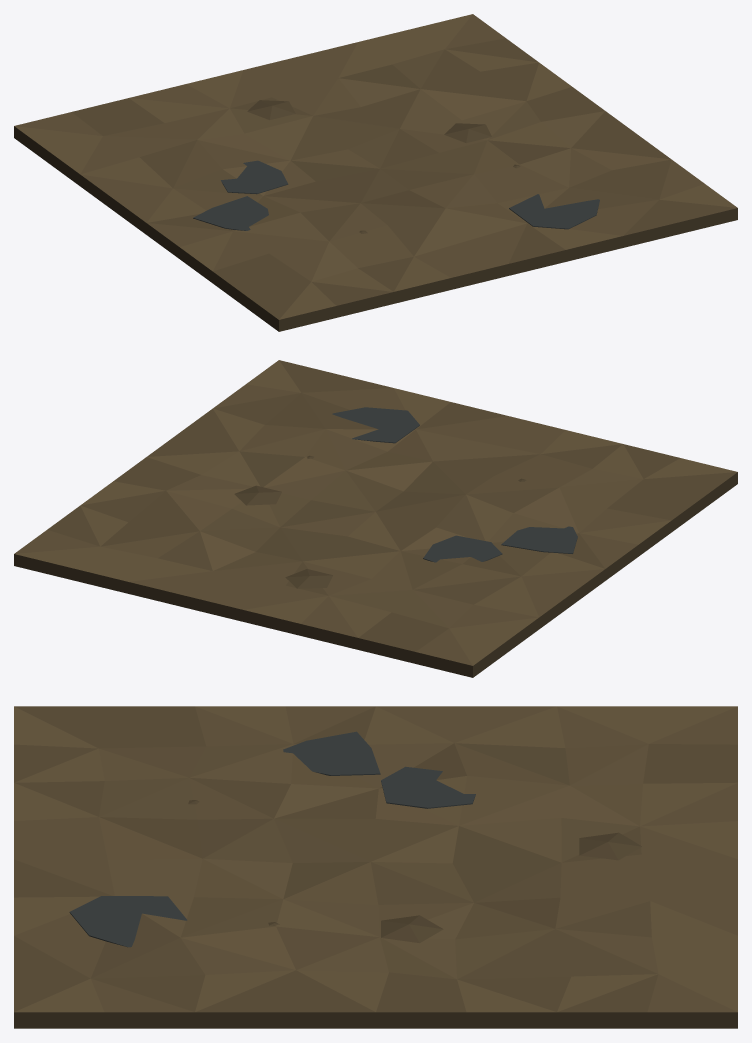
Rendered from ground_mud_b.glb.
The picture shows the model from 3 angles, top to bottom: view 1: azimuth 30°, elevation 25°; view 2: azimuth 150°, elevation 25°; view 3: azimuth 270°, elevation 25°; orthographic projection. The views are drawn at different scales.
Parts seen in each view (by area): view 1: ground_mud_b; view 2: ground_mud_b; view 3: ground_mud_b.
Boxes of the visible parts, <box> form: ground_mud_b: <box>14,14,737,331</box>; ground_mud_b: <box>14,360,737,677</box>; ground_mud_b: <box>14,706,737,1028</box>.
Size of the model in its own units: 4 by 0.1334 by 4.
